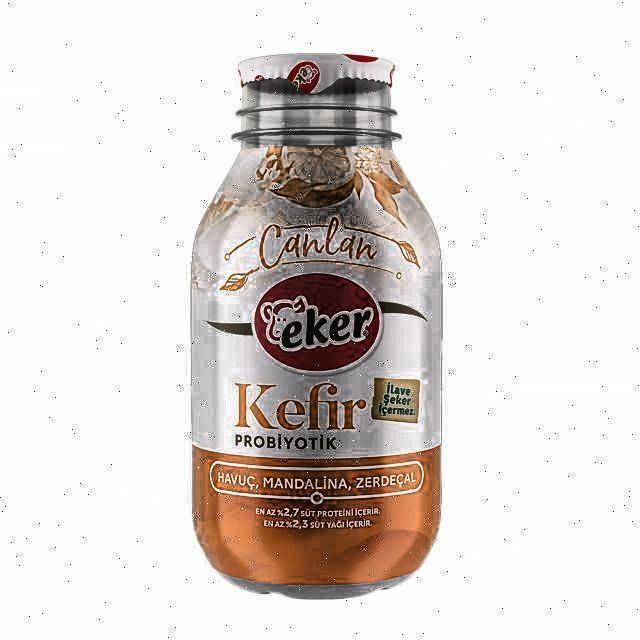plastic: (181, 45, 447, 602)
